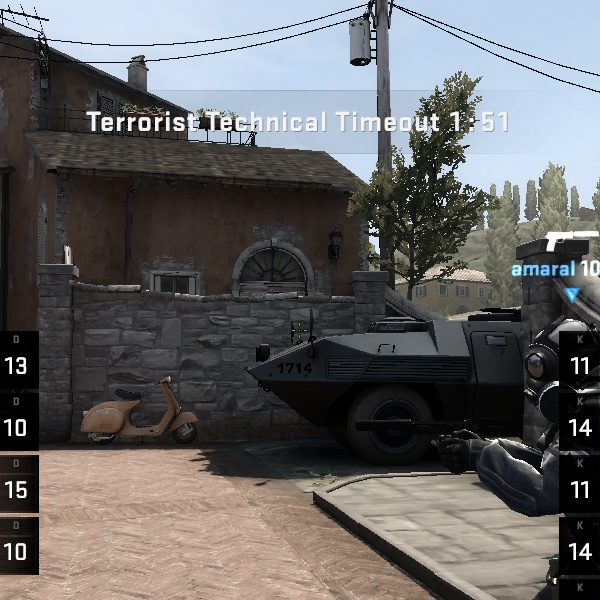ct_body: (489, 299, 600, 600)
ct_head: (517, 306, 599, 422)
